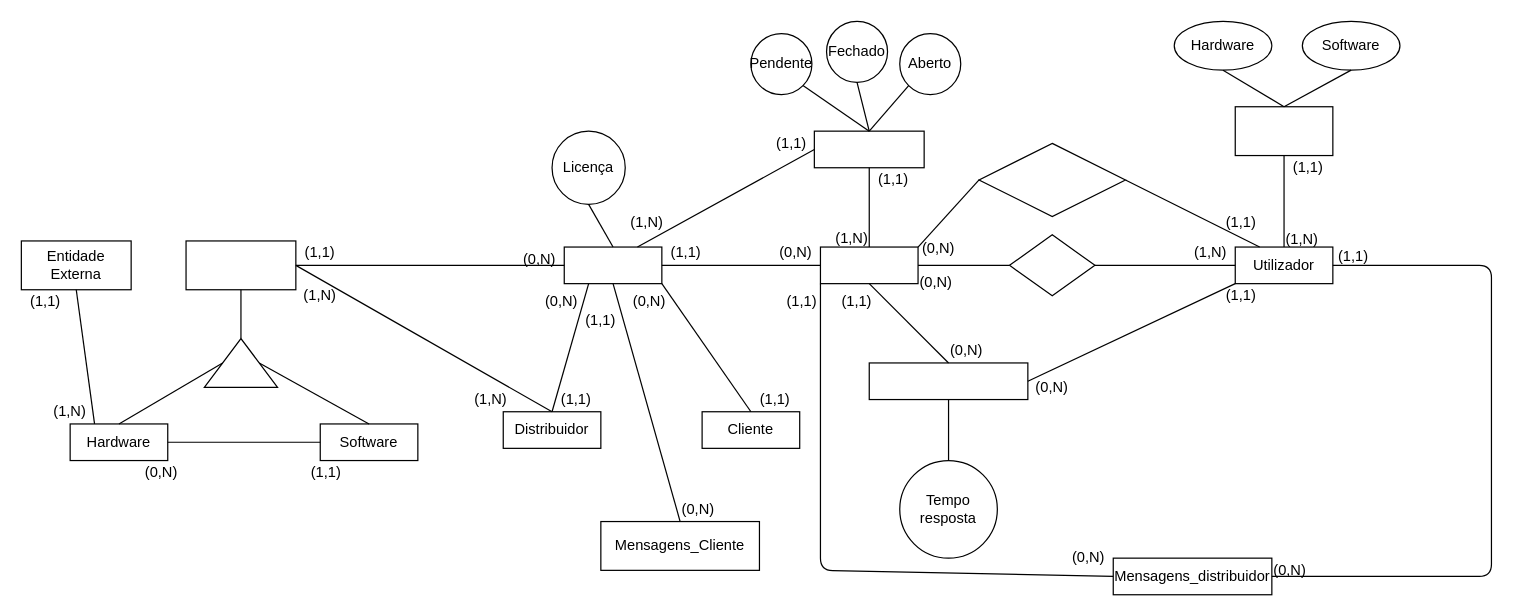
This 1514x616 diagram has some shape labels left out. Here are the shapes that lost their labels. From the top down, the centre of each, then its label:
At point (868, 149): "Estado".
At point (1283, 131): "Tipo".
At point (1051, 179): "É responsavel".
At point (240, 265): "Produto".
At point (612, 265): "Ticket Distribuidor".
At point (868, 265): "Ticket Empresa".
At point (1051, 265): "Pertence".
At point (948, 381): "Mensagens_empresa".
